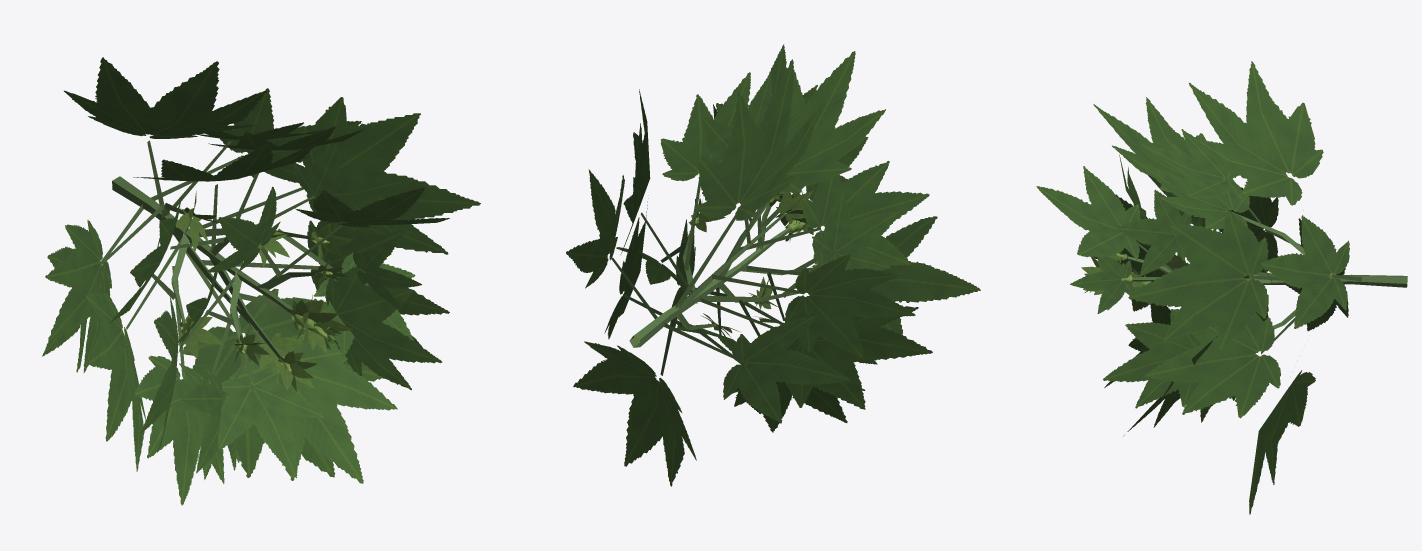
Rendered from p_kush_preflower_c0_cards.obj.
3 views of the same model, side by side, from view 1: azimuth 30°, elevation 25°; view 2: azimuth 150°, elevation 25°; view 3: azimuth 270°, elevation 25° (orthographic). The views are drawn at different scales.
Bounding box in the file's own units: 1.17 × 1.49 × 1.11.
1 material, 1 textured.
